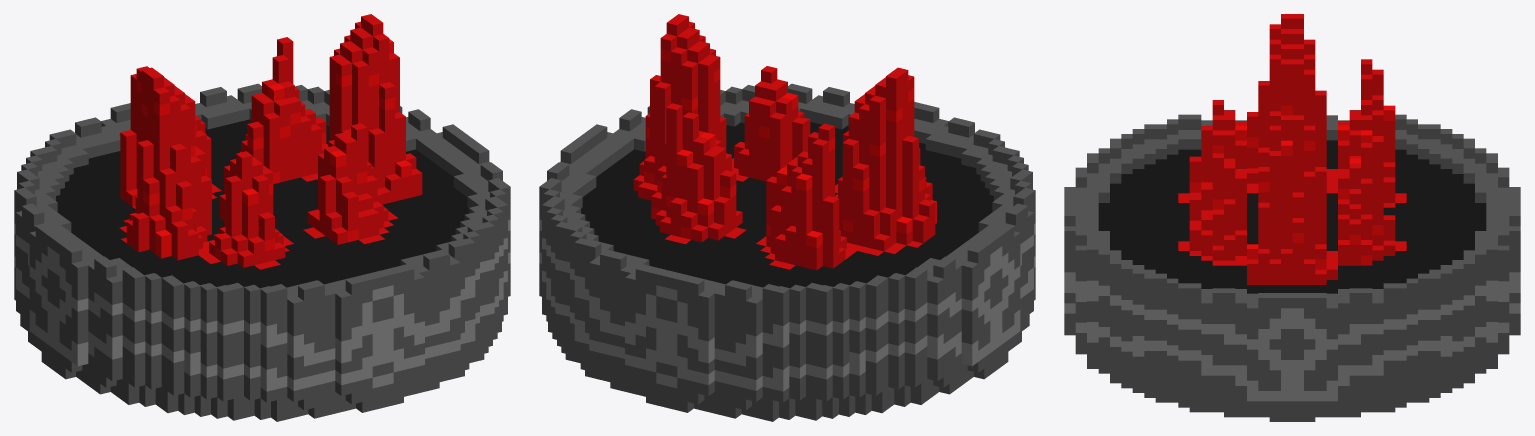
File: просто алтарь(красный ).obj
The picture shows the model from 3 angles, left to right: view 1: azimuth 30°, elevation 25°; view 2: azimuth 150°, elevation 25°; view 3: azimuth 270°, elevation 25°; orthographic projection. The views are drawn at different scales.
Bounding box in the file's own units: 4 × 2.5 × 4.
1 material, 1 textured.
